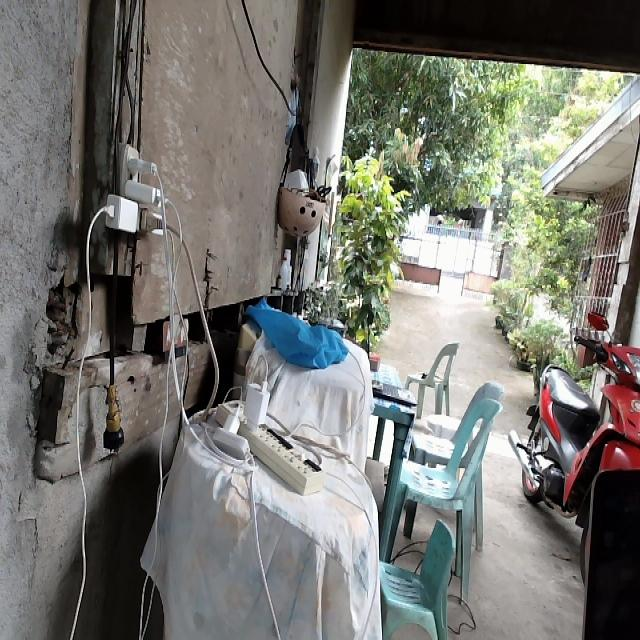-: (102, 140, 173, 237)
